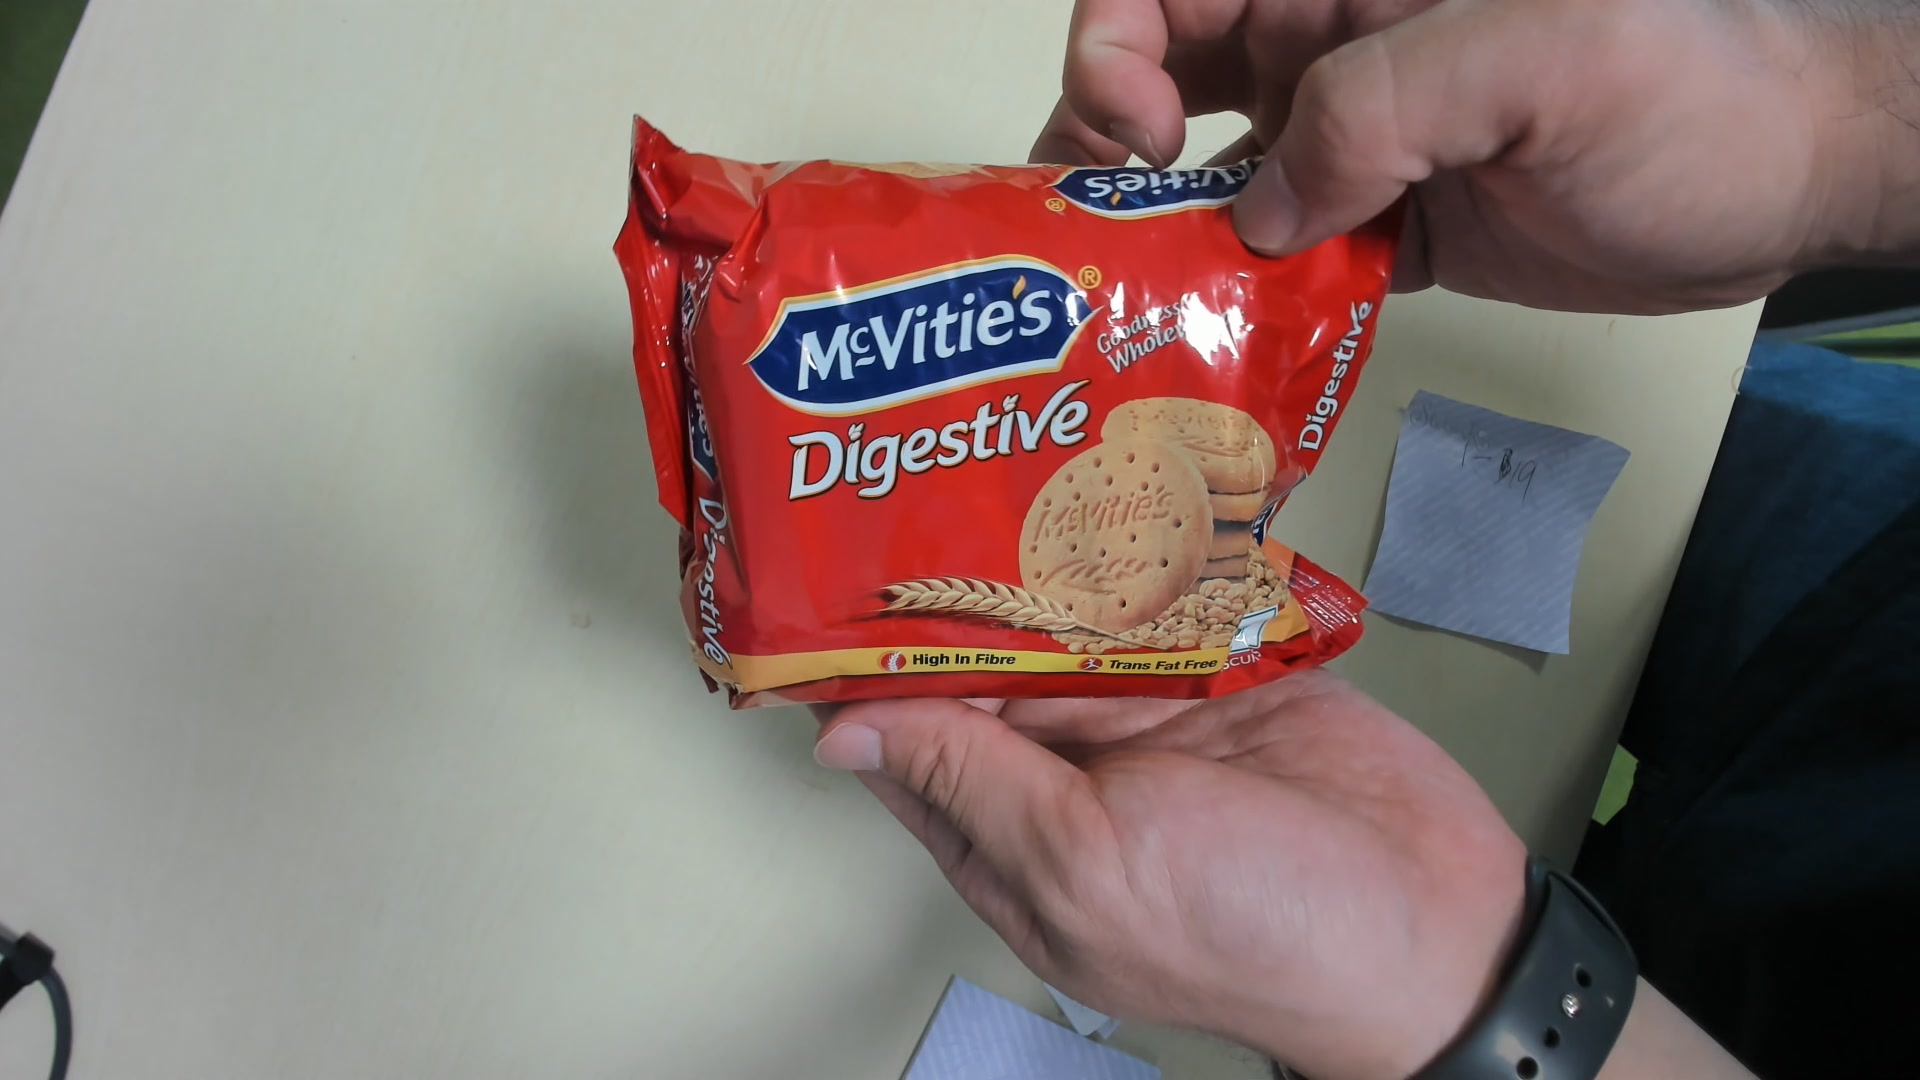BiscuitsCrackersCookies_200-299g_NonHalal_NonHealthy: (622, 142, 1389, 702)
